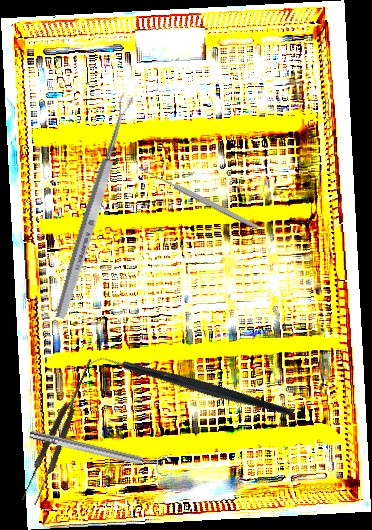Chopper: (85, 295, 295, 481)
Fixation Ring: (27, 421, 173, 480)
Surgical Spoon: (52, 93, 136, 321), (137, 164, 260, 231)
Tissue Forceps: (19, 355, 101, 507)
